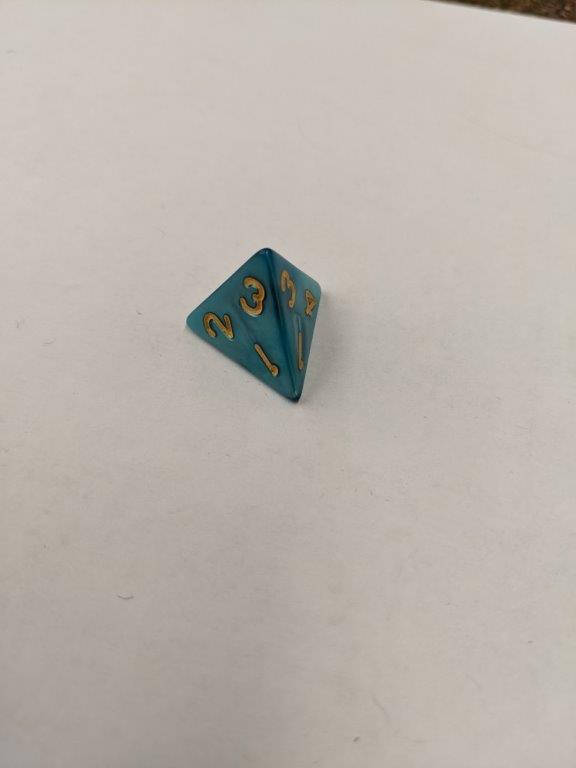d4-3: (184, 244, 327, 405)
